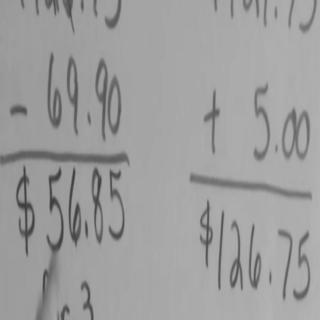.: (82, 219, 90, 240), (85, 109, 93, 126), (267, 268, 273, 286), (273, 141, 279, 154)
0: (106, 75, 124, 134), (281, 107, 296, 162), (295, 109, 310, 159)
1: (215, 209, 226, 290)
2: (229, 219, 245, 290)
5: (250, 81, 272, 164), (44, 167, 65, 251), (293, 229, 314, 302), (107, 166, 127, 242)
6: (44, 49, 64, 129), (67, 165, 82, 248), (248, 221, 263, 289)
7: (276, 226, 293, 302)
8: (90, 166, 106, 245)
9: (65, 54, 82, 137), (94, 57, 108, 140)
